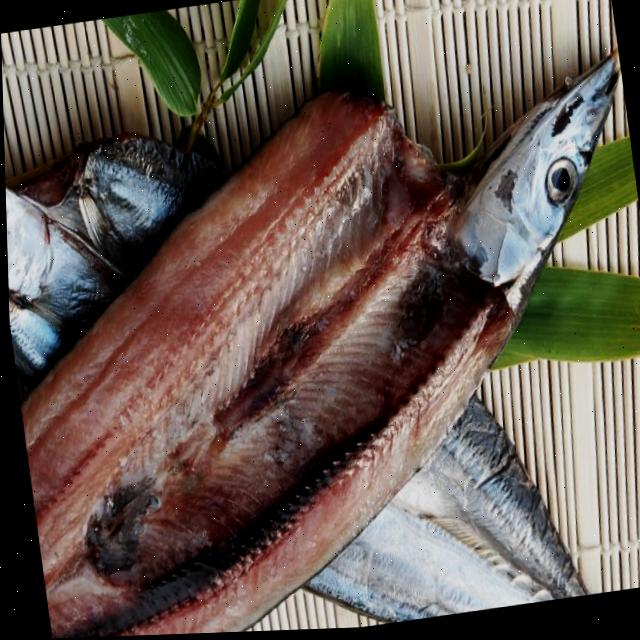熟制海鲜: (1, 44, 640, 640)
